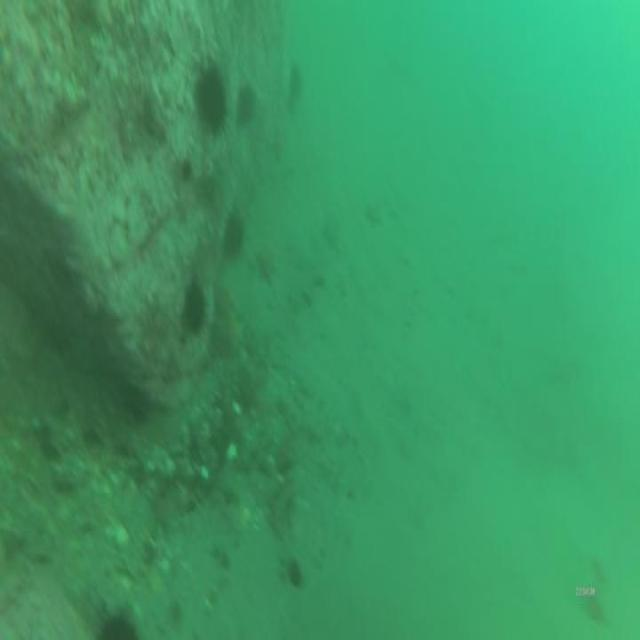echinus: (196, 70, 224, 134), (184, 284, 206, 336), (223, 215, 244, 261), (289, 60, 303, 109), (240, 87, 254, 134)
